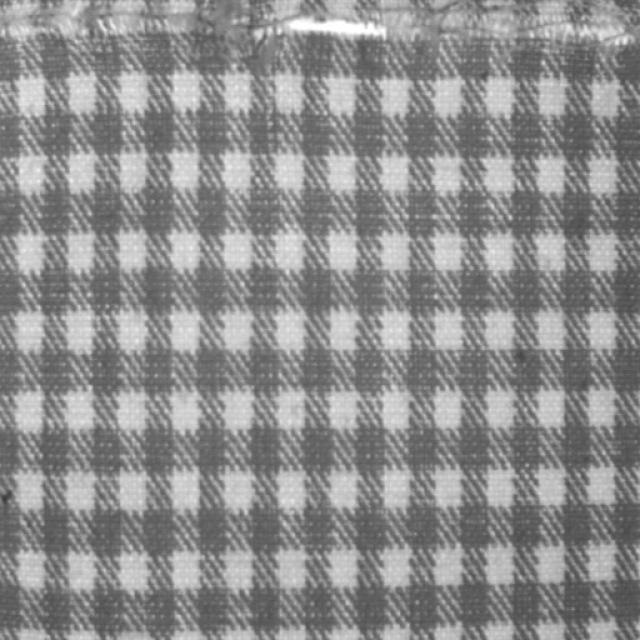Hole-Defect: (0, 0, 639, 40)
